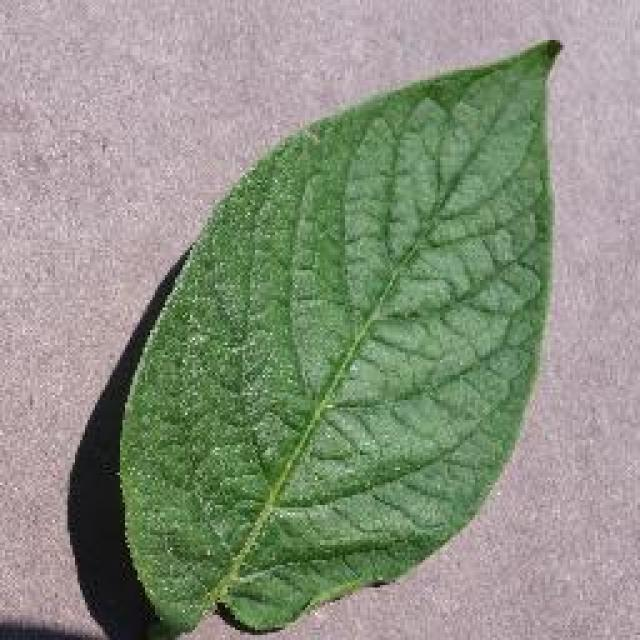Potato: (112, 35, 562, 637)
